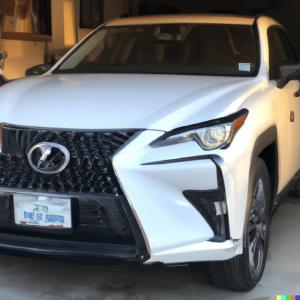Plate: (13, 194, 71, 228)
